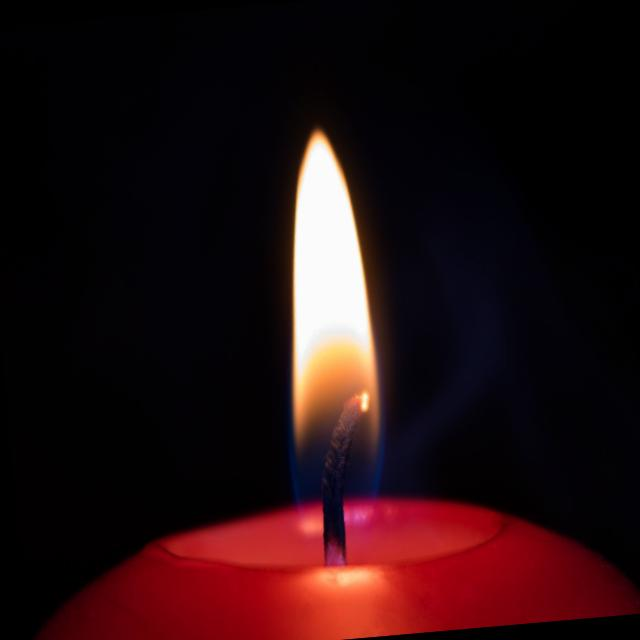Fire_Save: (0, 100, 640, 640), (261, 122, 391, 506)
